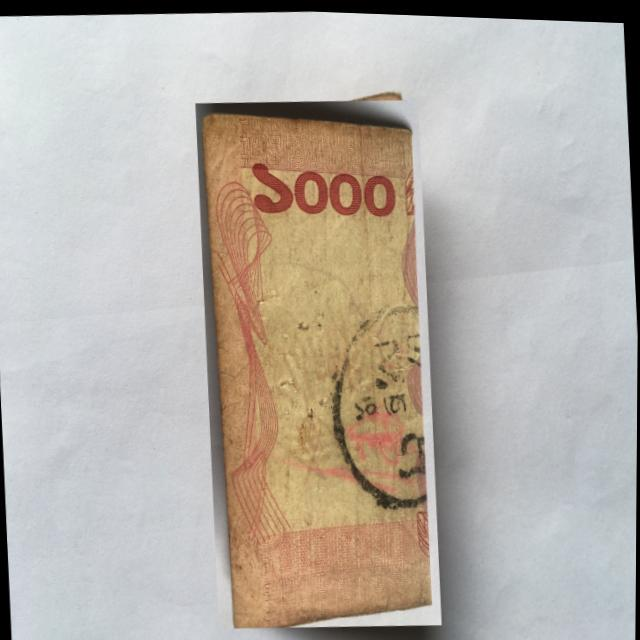Taka: (192, 90, 446, 633)
